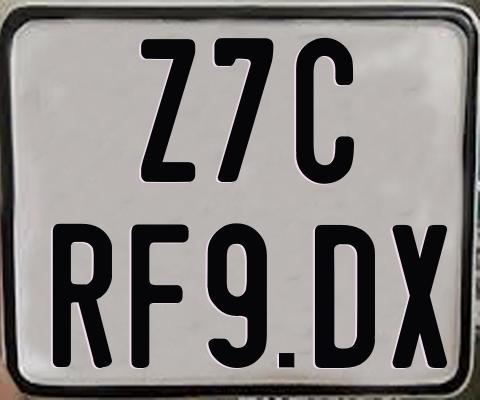7: (213, 38, 278, 186)
9: (205, 222, 269, 367)
C: (294, 38, 357, 189)
D: (313, 225, 376, 371)
F: (129, 222, 187, 367)
R: (52, 224, 117, 368)
X: (392, 224, 453, 369)
Z: (138, 38, 196, 186)
